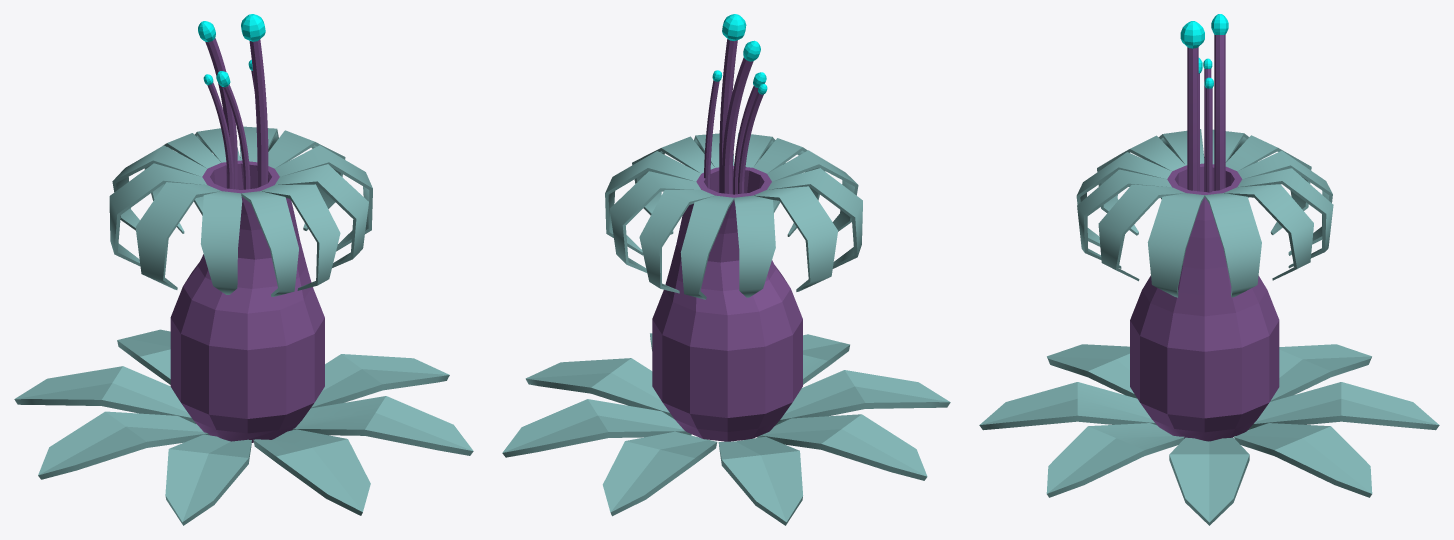
The model's file is plante_michael.fbx.
3 renders of one model, left to right at view 1: azimuth 30°, elevation 25°; view 2: azimuth 150°, elevation 25°; view 3: azimuth 270°, elevation 25°, orthographic. The views are drawn at different scales.
Parts seen in each view (by area): view 1: polySurface1; view 2: polySurface1; view 3: polySurface1.
Part boxes in pixels (left/top/right/bottom): polySurface1: left=14, top=14, right=473, bottom=525; polySurface1: left=502, top=14, right=950, bottom=525; polySurface1: left=979, top=14, right=1439, bottom=525.
Bounding box in the file's own units: 40.7 × 39.84 × 40.7.
